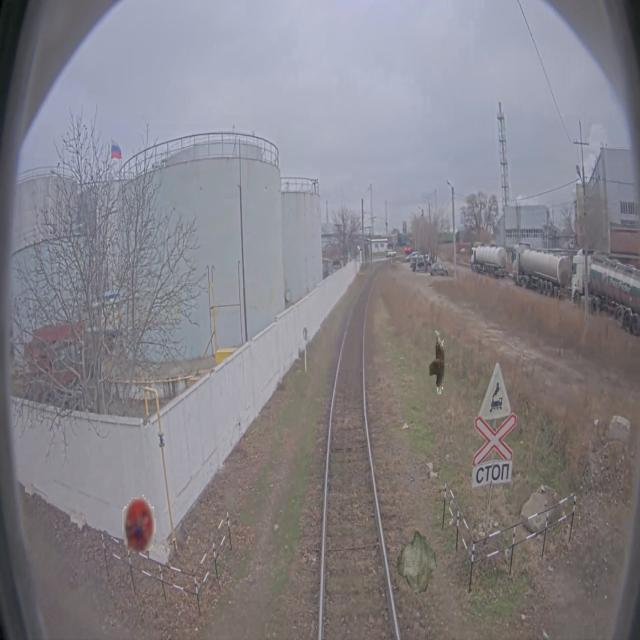floating object: (123, 489, 155, 553), (429, 330, 444, 394)
plastic bag: (397, 529, 438, 593)
